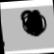correct: (19, 8, 47, 38)
